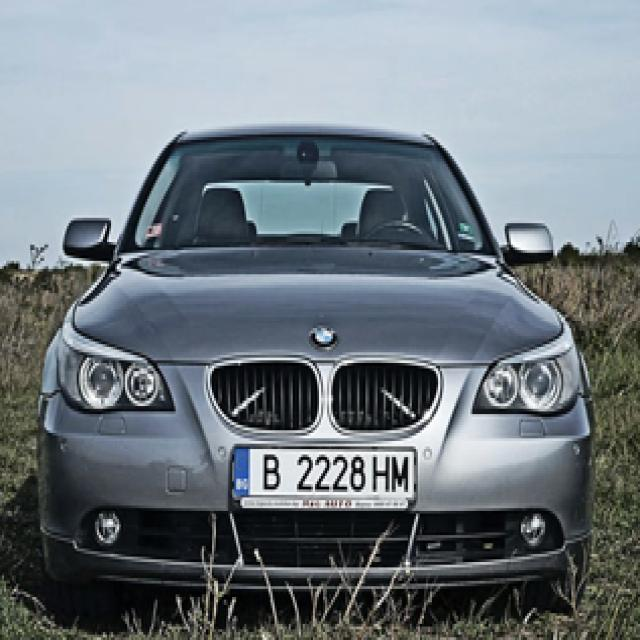license_plate: (234, 444, 418, 503)
